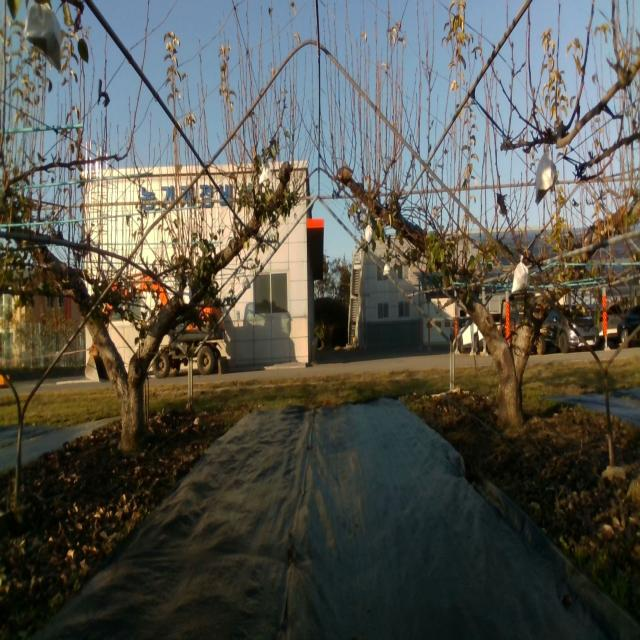pearbags: (23, 0, 63, 70), (535, 153, 557, 206), (511, 254, 530, 293), (258, 161, 274, 185)
